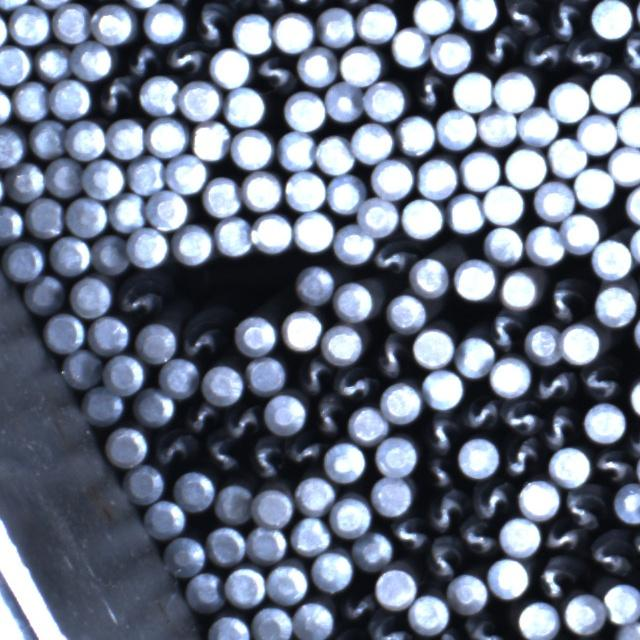tool: (91, 3, 136, 45), (263, 393, 306, 436), (70, 275, 113, 318), (370, 156, 414, 198), (488, 557, 531, 599), (49, 78, 92, 120), (401, 196, 444, 238), (453, 258, 496, 300), (595, 285, 638, 327), (146, 116, 190, 157), (351, 121, 395, 162), (488, 357, 532, 398), (493, 70, 537, 111), (374, 568, 418, 609), (146, 188, 188, 230), (460, 148, 502, 190), (416, 155, 458, 197), (126, 226, 168, 268), (505, 146, 547, 188), (375, 435, 417, 477), (560, 323, 602, 365), (408, 594, 450, 636), (311, 549, 353, 591), (562, 593, 604, 635), (338, 44, 381, 85), (200, 363, 243, 404), (105, 425, 148, 466), (234, 315, 277, 356), (364, 80, 407, 121), (432, 31, 475, 72), (3, 241, 46, 282), (330, 495, 371, 538), (224, 85, 267, 126), (324, 440, 367, 481), (231, 11, 272, 53), (452, 70, 493, 112), (271, 11, 313, 52), (265, 563, 307, 604), (546, 80, 588, 121), (103, 352, 145, 393), (294, 211, 335, 253), (590, 71, 631, 113), (548, 445, 590, 486), (534, 180, 576, 221), (574, 165, 616, 206), (412, 326, 454, 367), (379, 380, 421, 421), (323, 324, 365, 365), (284, 89, 326, 130), (171, 224, 213, 265), (517, 599, 559, 640), (81, 158, 124, 198), (458, 436, 501, 476), (499, 514, 542, 554), (356, 3, 399, 43), (282, 173, 325, 213), (230, 128, 273, 168), (70, 41, 113, 81), (423, 368, 466, 408), (133, 388, 176, 428), (281, 308, 322, 349), (50, 235, 91, 276), (138, 73, 179, 114), (252, 212, 293, 253), (174, 470, 215, 511), (246, 522, 287, 563), (106, 117, 146, 159), (66, 195, 108, 235), (396, 114, 436, 156), (89, 314, 131, 354), (584, 402, 626, 442), (166, 154, 208, 194), (482, 184, 524, 224), (226, 566, 266, 608), (518, 478, 560, 518), (208, 47, 250, 87), (163, 536, 205, 576), (294, 600, 336, 640), (44, 311, 86, 351), (590, 238, 630, 280), (178, 80, 220, 120), (455, 334, 495, 376), (252, 486, 294, 526), (291, 516, 333, 556), (436, 108, 476, 149), (296, 46, 337, 86), (392, 25, 432, 66), (66, 119, 106, 160), (202, 174, 242, 215), (562, 210, 602, 251), (135, 323, 176, 363), (524, 223, 564, 264), (241, 169, 282, 209), (335, 224, 376, 264), (145, 2, 186, 42), (410, 256, 450, 297), (500, 266, 540, 307), (24, 195, 63, 237), (315, 6, 354, 48), (548, 135, 588, 175), (359, 196, 399, 236), (576, 114, 616, 154), (484, 224, 524, 264), (247, 356, 287, 396), (372, 476, 412, 516), (64, 347, 104, 387), (447, 574, 487, 614), (335, 280, 375, 320), (160, 356, 200, 396), (315, 132, 354, 173), (8, 6, 49, 45), (24, 274, 65, 313), (84, 385, 125, 424), (124, 464, 165, 503), (146, 499, 188, 537), (517, 106, 559, 144), (185, 572, 223, 614), (5, 162, 44, 202), (51, 3, 90, 43), (476, 108, 516, 147), (386, 293, 426, 332), (276, 129, 315, 169), (192, 120, 231, 160), (296, 475, 336, 514), (327, 174, 366, 214), (295, 265, 335, 304), (353, 532, 392, 572), (326, 82, 364, 123), (205, 528, 246, 566), (91, 233, 129, 274), (591, 0, 633, 37), (126, 155, 165, 194), (106, 192, 144, 232), (215, 216, 253, 256), (348, 405, 388, 443), (216, 482, 254, 522), (28, 118, 66, 158), (603, 582, 640, 623), (447, 192, 484, 233), (524, 324, 561, 365), (46, 157, 83, 197), (14, 81, 50, 121), (252, 606, 294, 640), (412, 0, 455, 33), (33, 43, 71, 80), (0, 44, 31, 84), (457, 0, 499, 29), (608, 145, 640, 182), (614, 482, 640, 526), (208, 614, 250, 640), (0, 125, 25, 166), (617, 106, 640, 147), (0, 205, 25, 242), (625, 182, 640, 223), (617, 620, 640, 640), (630, 372, 640, 417), (0, 86, 11, 125), (630, 226, 640, 268), (31, 0, 74, 8), (0, 8, 8, 48), (122, 0, 166, 7), (0, 0, 32, 8)
tool_b: (182, 307, 228, 359), (588, 528, 634, 577), (116, 271, 164, 317), (543, 273, 588, 322), (561, 483, 609, 528), (534, 554, 581, 598), (188, 1, 231, 47), (471, 478, 515, 520), (425, 534, 463, 581), (564, 34, 608, 74), (250, 53, 295, 92), (427, 490, 467, 533), (95, 75, 136, 116), (478, 25, 518, 67), (201, 433, 241, 475), (248, 435, 286, 479), (153, 427, 197, 465), (372, 334, 410, 378), (519, 34, 562, 72), (310, 394, 347, 438), (542, 403, 579, 447), (489, 308, 525, 353), (504, 437, 543, 478), (579, 362, 621, 400), (592, 445, 632, 484), (547, 0, 587, 39), (410, 71, 448, 112), (164, 42, 207, 78), (333, 366, 376, 402), (499, 399, 540, 436), (532, 367, 574, 403), (460, 517, 499, 555), (390, 515, 430, 552), (223, 402, 263, 439), (460, 396, 499, 433), (424, 412, 459, 453), (369, 242, 408, 278), (500, 0, 542, 33), (296, 356, 330, 395), (542, 519, 582, 552), (124, 42, 161, 77), (286, 433, 323, 467), (420, 458, 457, 492), (180, 400, 218, 433), (340, 592, 376, 624), (367, 615, 412, 640), (620, 32, 640, 73), (280, 0, 326, 10), (256, 0, 289, 13), (626, 430, 640, 459)
